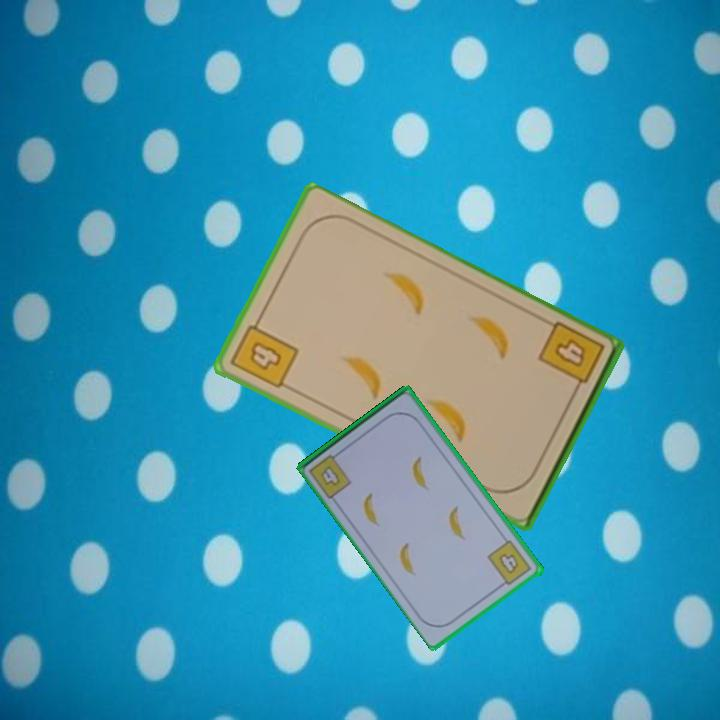4b: (226, 313, 302, 392), (534, 318, 608, 399), (484, 537, 535, 590), (317, 462, 343, 489)
